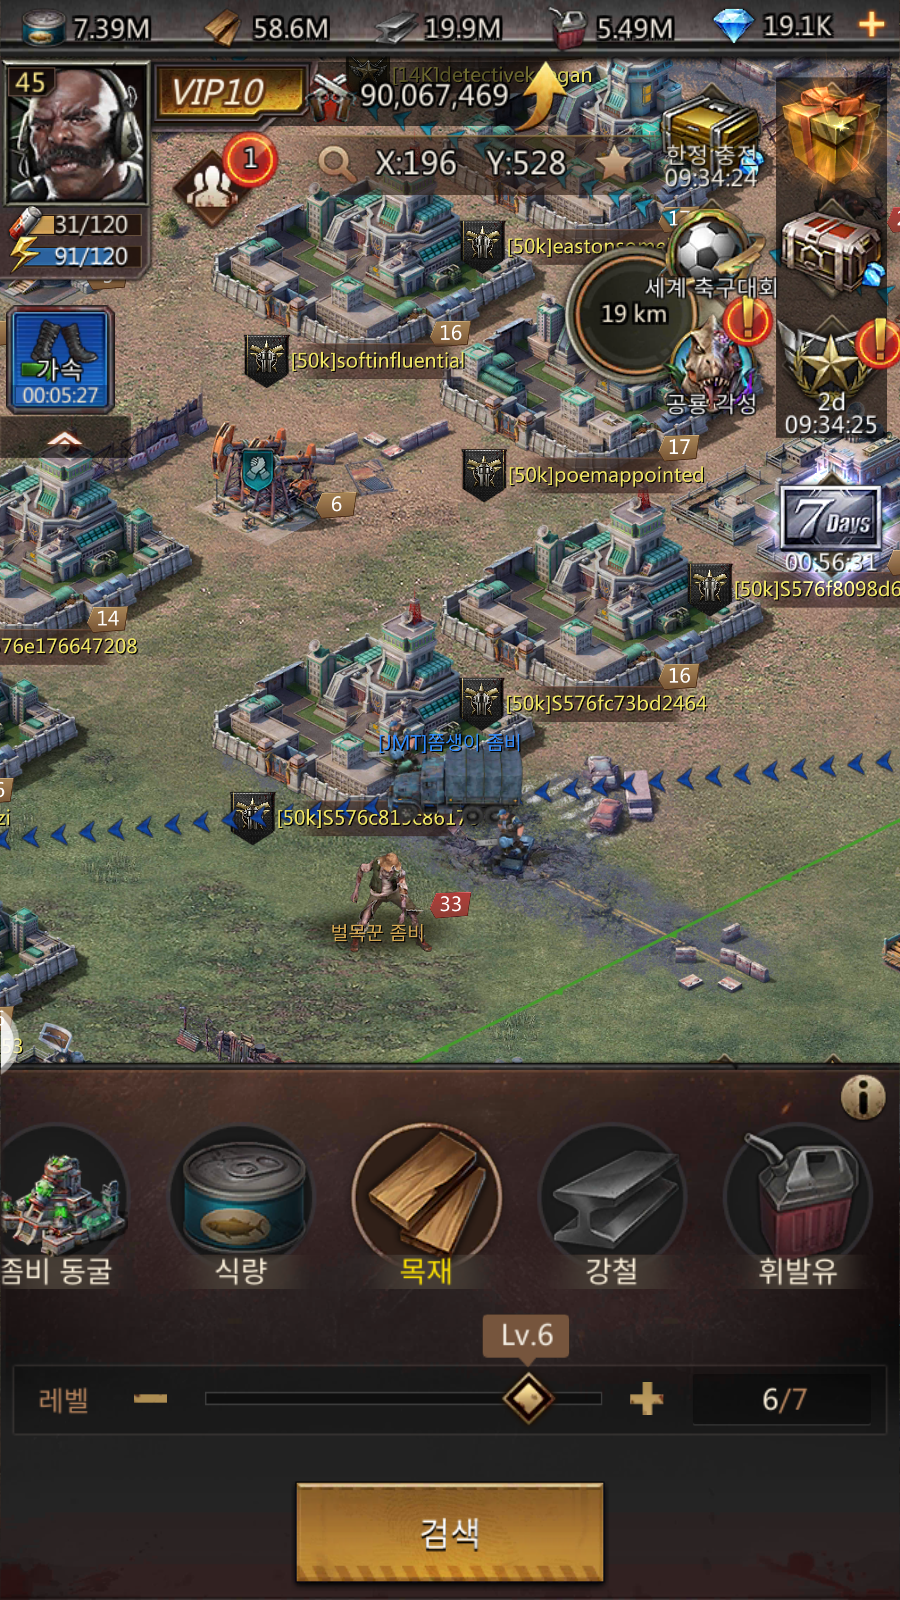rss_food_in_panel: (168, 1120, 316, 1296)
rss_gas_in_panel: (722, 1119, 871, 1303)
rss_lv6: (484, 1315, 571, 1357)
rss_minus_in_panel: (115, 1368, 178, 1429)
rss_plus_in_panel: (620, 1368, 676, 1427)
rss_search_in_panel: (297, 1481, 603, 1580)
rss_steel_in_panel: (538, 1119, 695, 1290)
rss_wood_in_panel: (346, 1120, 512, 1293)
troops_cnt_1: (154, 119, 286, 237)
